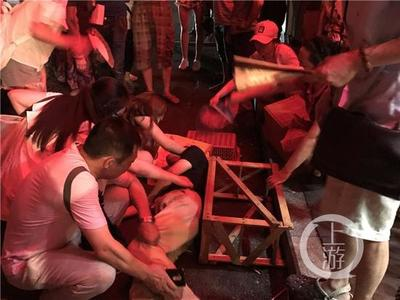10+: (1, 1, 400, 300)
down: (128, 141, 210, 285)
